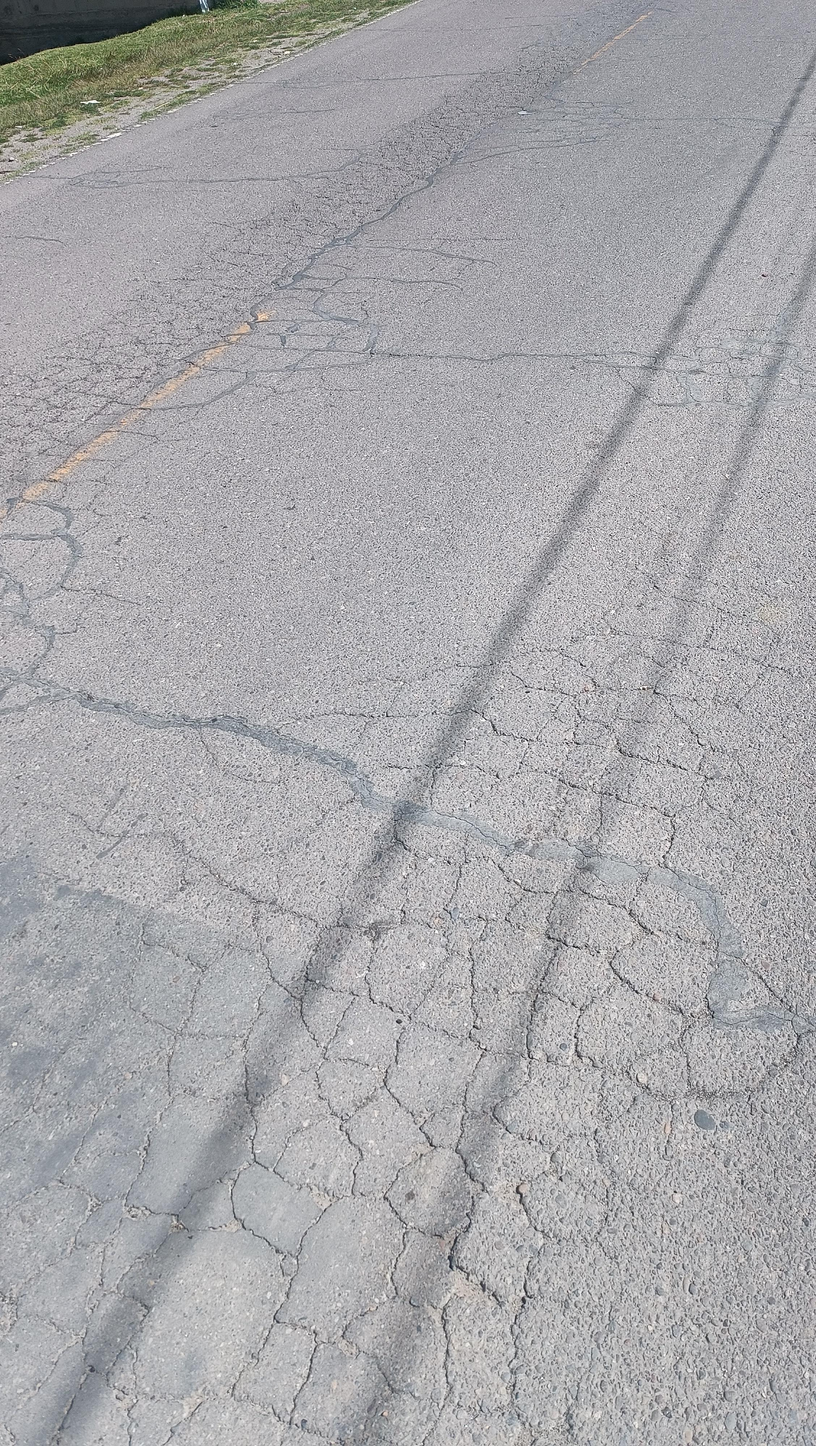GRIETA: (100, 701, 183, 723), (396, 352, 577, 362), (39, 681, 99, 703), (190, 176, 291, 184), (26, 176, 70, 179)
PIEL DE COCODRILO: (0, 570, 816, 1446), (0, 240, 398, 735), (0, 162, 425, 512), (578, 314, 816, 419), (435, 87, 632, 170), (712, 111, 816, 159), (67, 164, 163, 189)
